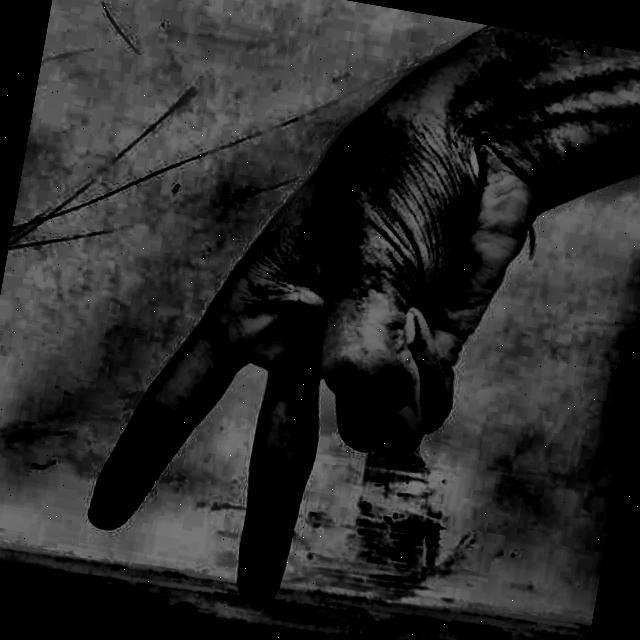Pa: (48, 20, 573, 640)
